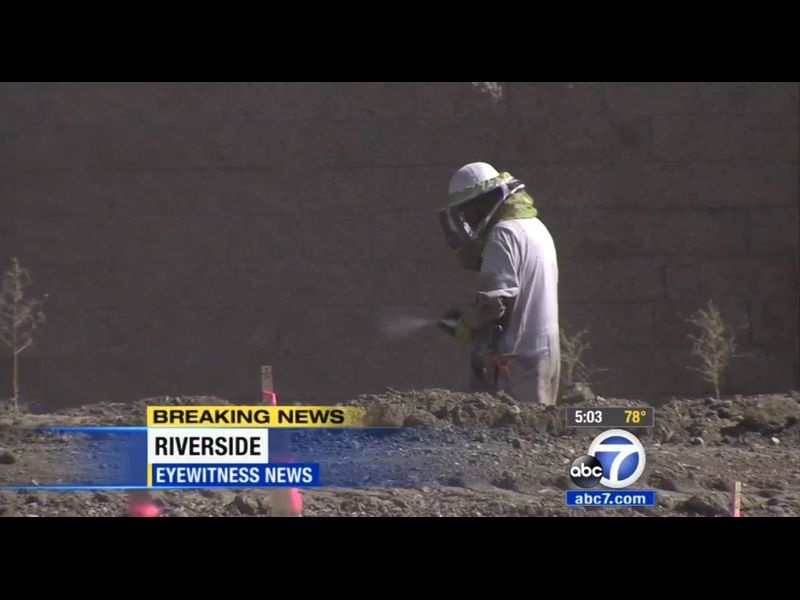white: (449, 161, 507, 227)
